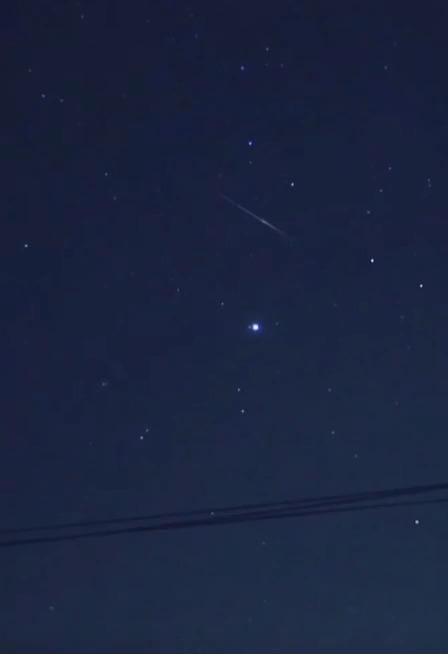meteorite: (220, 194, 312, 256)
